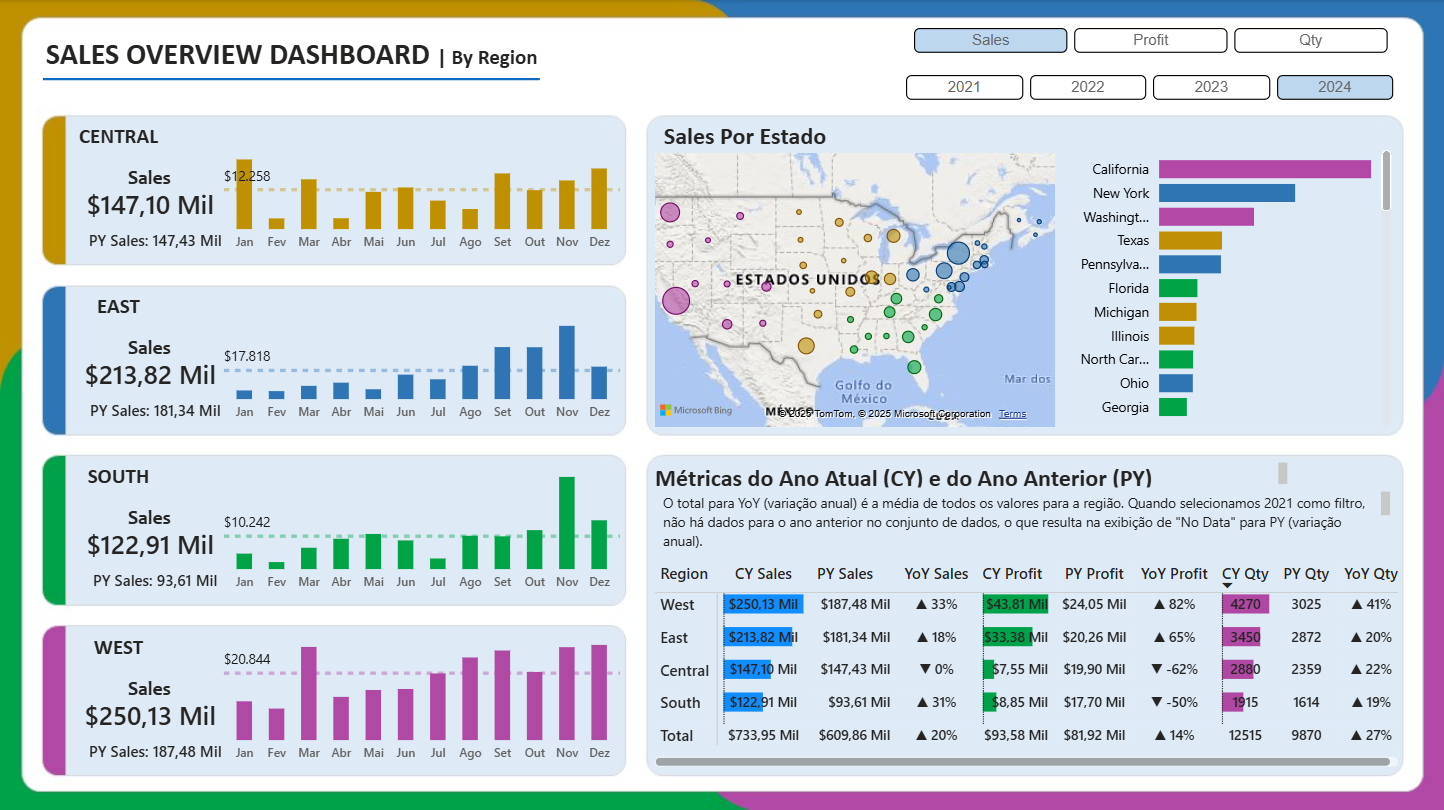

What the dashboard file says about the page in this screenshot:
{"tool":"powerbi","page":{"name":"SALES OVERVIEW DASHBOARD","canvas":[1280,720],"ordinal":0},"visuals":[{"type":"ChicletSlicer1448559807354","title":"Filter - Metric","fields":{"Category":["Select Metric.Select Metric"]},"box":[802.4,16.5,435.7,41.8],"z":0},{"type":"textbox","title":"TITLE NAME","box":[20.4,26.3,476.6,64.2],"z":0,"group":"g5"},{"type":"card","fields":{"Values":["Sales Data.Total Qty"]},"box":[61.3,159.2,144,45.7],"z":0,"group":"g4"},{"type":"card","fields":{"Values":["Sales Data.Total Qty"]},"box":[61.4,310.4,144,45.7],"z":0,"group":"g3"},{"type":"card","fields":{"Values":["Sales Data.Total Qty"]},"box":[61.4,460.4,144,45.7],"z":0,"group":"g2"},{"type":"card","fields":{"Values":["Sales Data.Total Qty"]},"box":[61.4,612.6,144,45.7],"z":0,"group":"g1"},{"type":"shape","title":"Line","box":[37.9,58.4,440.6,23.3],"z":1000,"group":"g5"},{"type":"ChicletSlicer1448559807354","title":"Filter - Year","fields":{"Category":["Calendar Table.Year"]},"box":[795.6,58.4,448.4,45.7],"z":1000},{"type":"textbox","box":[58.5,103.7,93.1,32.8],"z":1000,"group":"g4"},{"type":"textbox","box":[58.6,254.9,93.1,32.8],"z":1000,"group":"g3"},{"type":"textbox","box":[58.6,404.9,93.1,32.8],"z":1000,"group":"g2"},{"type":"textbox","box":[58.6,557.1,93.1,32.8],"z":1000,"group":"g1"},{"type":"card","fields":{"Values":["Sales Data.Dynamic Title"]},"box":[95.3,141.7,74.9,34],"z":2000,"group":"g4"},{"type":"card","fields":{"Values":["Sales Data.Dynamic Title"]},"box":[95.4,292.9,74.9,34],"z":2000,"group":"g3"},{"type":"card","fields":{"Values":["Sales Data.Dynamic Title"]},"box":[95.4,442.9,74.9,34],"z":2000,"group":"g2"},{"type":"group","id":"g1","title":"Grupo - WEST","box":[58.6,557.1,496.2,128.6],"z":2000},{"type":"card","fields":{"Values":["Sales Data.Dynamic Title"]},"box":[95.4,595.1,74.9,34],"z":2000,"group":"g1"},{"type":"card","fields":{"Values":["Sales Data.PY KPI Sales"]},"box":[70,198.4,135.2,34],"z":3000,"group":"g4"},{"type":"card","fields":{"Values":["Sales Data.PY KPI Sales"]},"box":[70.1,349.6,135.2,34],"z":3000,"group":"g3"},{"type":"group","id":"g2","title":"Grupo - SOUTH","box":[58.6,404.9,496.2,128.6],"z":3000},{"type":"card","fields":{"Values":["Sales Data.PY KPI Sales"]},"box":[70.1,499.6,135.2,34],"z":3000,"group":"g2"},{"type":"card","fields":{"Values":["Sales Data.PY KPI Sales"]},"box":[70.1,651.8,135.2,34],"z":3000,"group":"g1"},{"type":"clusteredColumnChart","fields":{"Y":["Sales Data.Total Qty"],"Category":["Calendar Table.Month_Name"]},"box":[193.5,104,361.8,128.4],"z":4000,"group":"g4"},{"type":"group","id":"g3","title":"Grupo - EAST","box":[58.6,254.9,496.2,128.6],"z":4000},{"type":"clusteredColumnChart","fields":{"Y":["Sales Data.Total Qty"],"Category":["Calendar Table.Month_Name"]},"box":[193.6,255.2,361.8,128.4],"z":4000,"group":"g3"},{"type":"clusteredColumnChart","fields":{"Y":["Sales Data.Total Qty"],"Category":["Calendar Table.Month_Name"]},"box":[193.6,405.2,361.8,128.4],"z":4000,"group":"g2"},{"type":"clusteredColumnChart","fields":{"Y":["Sales Data.Total Qty"],"Category":["Calendar Table.Month_Name"]},"box":[193.6,557.4,361.8,128.4],"z":4000,"group":"g1"},{"type":"group","id":"g4","title":"Grupo - CENTRAL","box":[58.5,103.7,496.9,128.7],"z":5000},{"type":"group","id":"g5","title":"TITLE","box":[20.4,26.3,476.6,64.2],"z":6000},{"type":"map","title":"Sales by State","fields":{"Size":["Sales Data.Total Qty"],"Series":["Sales Data.Region"],"Category":["Sales Data.State/Province"]},"box":[575.8,130.3,364.7,252.9],"z":7000},{"type":"card","fields":{"Values":["Sales Data.Dynamic Title - Graft Map"]},"box":[575.5,103.7,170.2,33.7],"z":8000},{"type":"barChart","fields":{"Y":["Sales Data.Total Qty"],"Category":["Sales Data.State/Province"],"Series":["Sales Data.Region"]},"box":[940.5,120.6,297.6,262.6],"z":9000},{"type":"pivotTable","fields":{"Rows":["Sales Data.Region"],"Values":["Sales Data.CY Sales","Sales Data.PY Sales","Sales Data.YoY Sales","Sales Data.CY Profit","Sales Data.PY Profit","Sales Data.YoY Profit","Sales Data.CY Qty","Sales Data.PY Qty","Sales Data.YoY Qty"]},"box":[575.3,493.3,668.9,192.5],"z":10000},{"type":"textbox","box":[575.5,405.2,571,31.9],"z":11000},{"type":"textbox","box":[582.6,430.9,655.3,63],"z":12000}]}

Visuals, with their boxes in screenshot pixels (x1, y1, x2, y2), scaled from the page's 1280x720 canvas onto the 1444x810 screenshot:
"Filter - Metric" ChicletSlicer1448559807354: Rect(905, 19, 1397, 66)
"TITLE NAME" textbox: Rect(23, 30, 561, 102)
card - Sales Data.Total Qty: Rect(69, 179, 232, 231)
card - Sales Data.Total Qty: Rect(69, 349, 232, 401)
card - Sales Data.Total Qty: Rect(69, 518, 232, 569)
card - Sales Data.Total Qty: Rect(69, 689, 232, 741)
"Line" shape: Rect(43, 66, 540, 92)
"Filter - Year" ChicletSlicer1448559807354: Rect(898, 66, 1403, 117)
textbox: Rect(66, 117, 171, 154)
textbox: Rect(66, 287, 171, 324)
textbox: Rect(66, 456, 171, 492)
textbox: Rect(66, 627, 171, 664)
card - Sales Data.Dynamic Title: Rect(108, 159, 192, 198)
card - Sales Data.Dynamic Title: Rect(108, 330, 192, 368)
card - Sales Data.Dynamic Title: Rect(108, 498, 192, 537)
"Grupo - WEST" group: Rect(66, 627, 626, 771)
card - Sales Data.Dynamic Title: Rect(108, 669, 192, 708)
card - Sales Data.PY KPI Sales: Rect(79, 223, 231, 261)
card - Sales Data.PY KPI Sales: Rect(79, 393, 232, 432)
"Grupo - SOUTH" group: Rect(66, 456, 626, 600)
card - Sales Data.PY KPI Sales: Rect(79, 562, 232, 600)
card - Sales Data.PY KPI Sales: Rect(79, 733, 232, 772)
clusteredColumnChart - Sales Data.Total Qty x Calendar Table.Month_Name: Rect(218, 117, 626, 261)
"Grupo - EAST" group: Rect(66, 287, 626, 431)
clusteredColumnChart - Sales Data.Total Qty x Calendar Table.Month_Name: Rect(218, 287, 627, 432)
clusteredColumnChart - Sales Data.Total Qty x Calendar Table.Month_Name: Rect(218, 456, 627, 600)
clusteredColumnChart - Sales Data.Total Qty x Calendar Table.Month_Name: Rect(218, 627, 627, 772)
"Grupo - CENTRAL" group: Rect(66, 117, 627, 261)
"TITLE" group: Rect(23, 30, 561, 102)
"Sales by State" map: Rect(650, 147, 1061, 431)
card - Sales Data.Dynamic Title - Graft Map: Rect(649, 117, 841, 155)
barChart - Sales Data.Total Qty x Sales Data.State/Province: Rect(1061, 136, 1397, 431)
pivotTable - Sales Data.Region x Sales Data.CY Sales: Rect(649, 555, 1404, 772)
textbox: Rect(649, 456, 1293, 492)
textbox: Rect(657, 485, 1397, 556)
